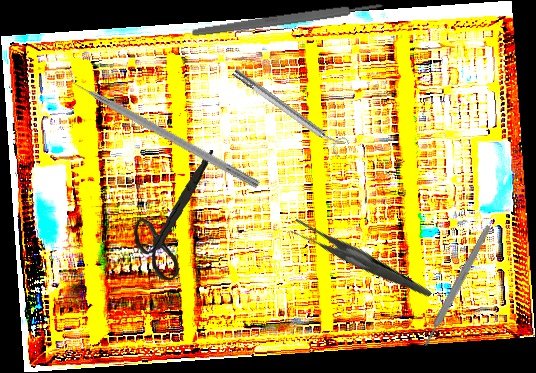Chopper: (58, 61, 267, 190)
Dressing Forceps: (287, 188, 432, 334)
Fixation Ring: (228, 62, 351, 159)
Iris Scissors: (127, 149, 225, 283)
Scalpel Handle: (421, 224, 493, 348), (191, 0, 384, 39)
